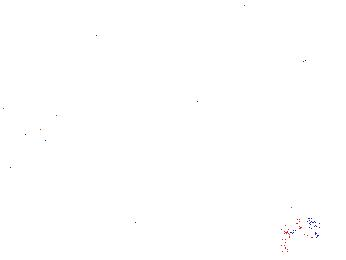flame jellyfish: (18, 75, 68, 143), (283, 186, 337, 243), (101, 168, 146, 223)
